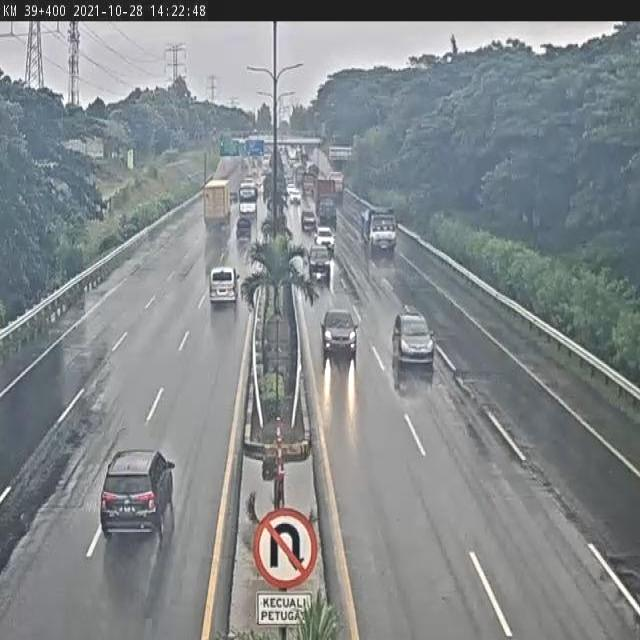Car: (89, 444, 180, 542), (392, 307, 434, 372), (320, 308, 359, 362), (209, 265, 240, 306), (308, 243, 333, 282), (314, 226, 335, 252), (236, 217, 252, 243), (302, 210, 316, 232), (287, 184, 301, 204), (229, 191, 238, 203)
Truck: (358, 206, 404, 256), (202, 172, 234, 233), (316, 177, 338, 223), (238, 180, 258, 215)
